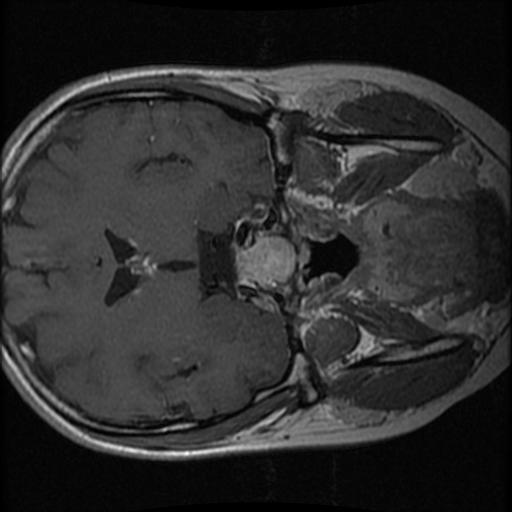pituitary tumour: (234, 236, 296, 289)
